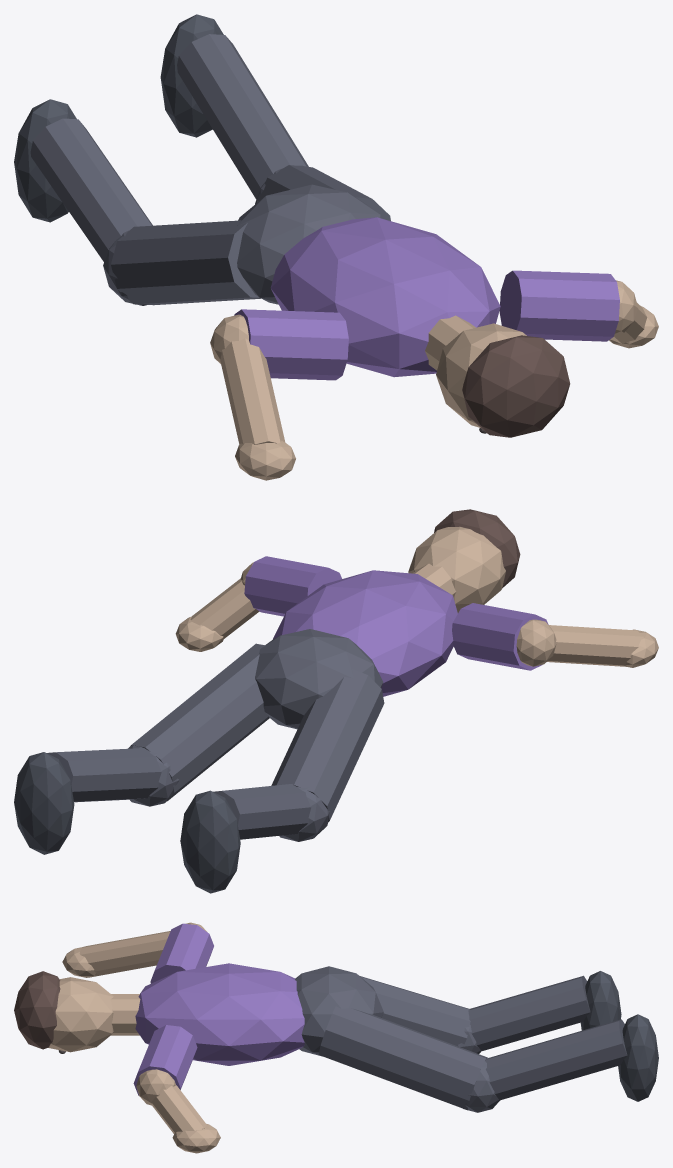
3 renders of one model, top to bottom at view 1: azimuth 30°, elevation 25°; view 2: azimuth 150°, elevation 25°; view 3: azimuth 270°, elevation 25°, orthographic. The views are drawn at different scales.
Visible parts, largest first — view 1: world; view 2: world; view 3: world.
Boxes of the visible parts, x1=… form: world: x1=14, y1=14, x2=658, y2=480; world: x1=14, y1=509, x2=658, y2=893; world: x1=14, y1=922, x2=658, y2=1153.
Bounding box in the file's own units: 1.25 × 0.3942 × 2.
